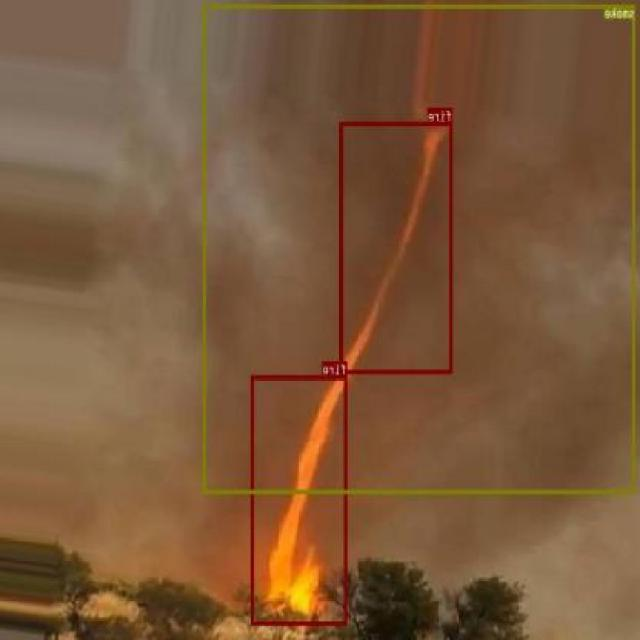Fire: (341, 120, 454, 374), (252, 373, 348, 624)
Smoke: (202, 4, 636, 493)
